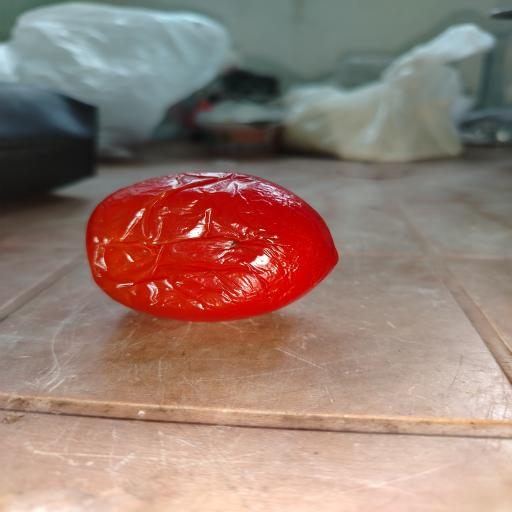spoiled: (86, 173, 338, 321)
